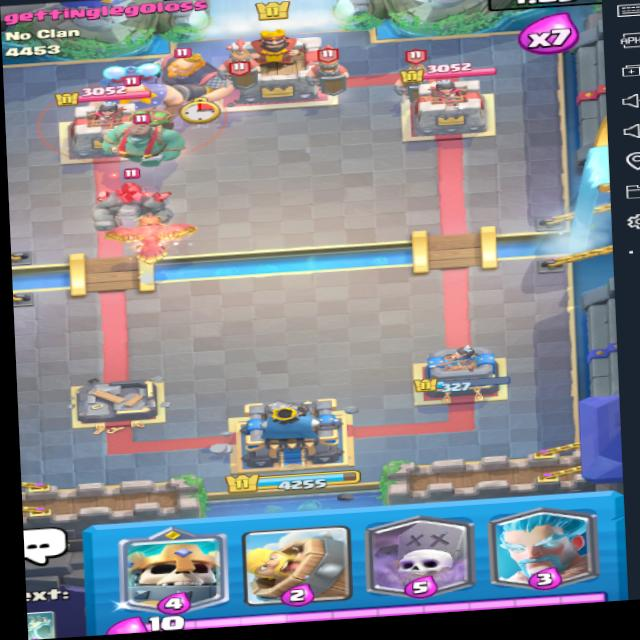Egiant: (90, 53, 206, 129)
Goblingiant: (103, 96, 191, 164)
Golem: (82, 168, 179, 232)
Royalgiant: (145, 44, 232, 112)
Royalrecruits: (291, 42, 359, 106), (217, 36, 269, 94), (390, 48, 436, 103)
